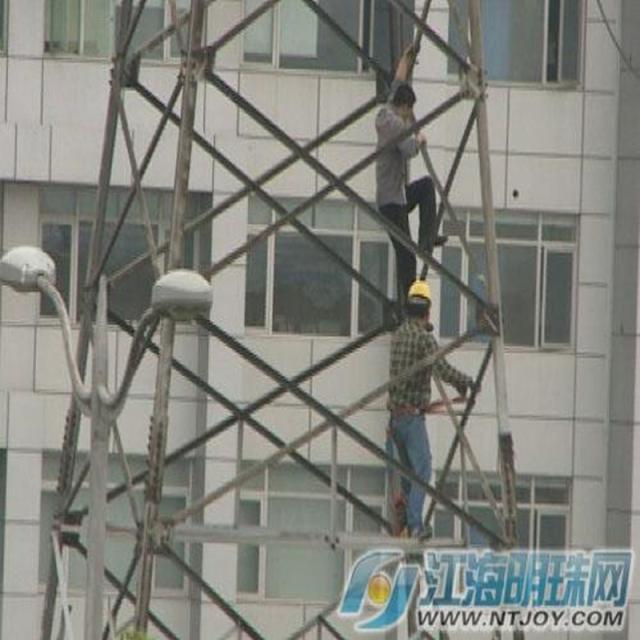non-critical vegetation: (56, 12, 528, 558)
